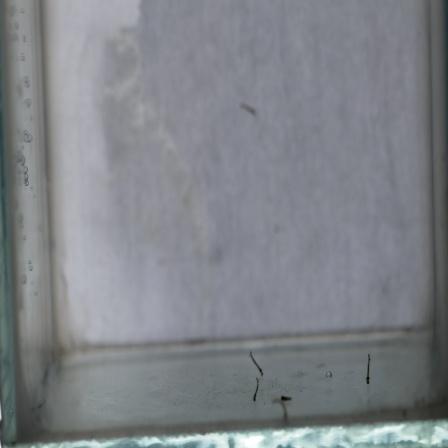Jentik-Nyamuk: (248, 346, 266, 406), (363, 348, 376, 388), (278, 390, 294, 405)
